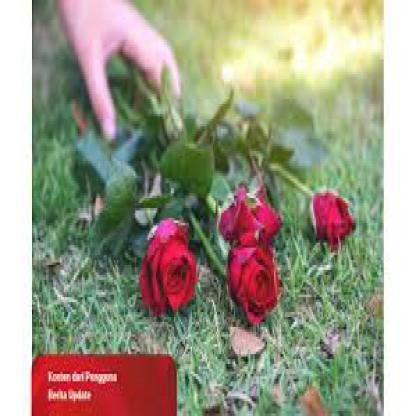Rose-Mawar: (138, 187, 359, 328)
